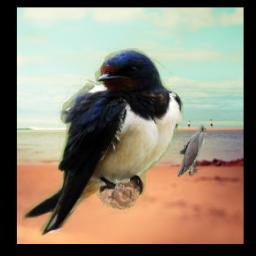Cuckoo: (176, 125, 206, 177)
Swallow: (22, 48, 183, 237)
